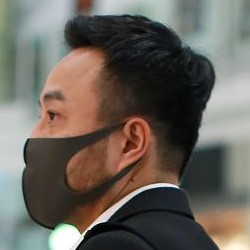mask: (10, 96, 138, 238)
